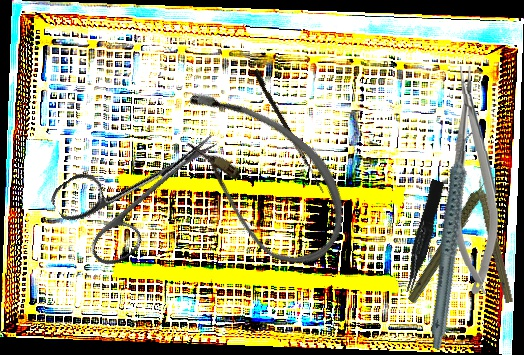Cannula: (144, 70, 372, 282)
Handpiece: (387, 129, 520, 352), (385, 172, 520, 306), (470, 169, 519, 304)
Hook Surgical: (250, 68, 330, 194)
Iris Scissors: (46, 98, 241, 275)
Needle Holder: (448, 65, 500, 295)
Tissue Forceps: (396, 179, 450, 294)
